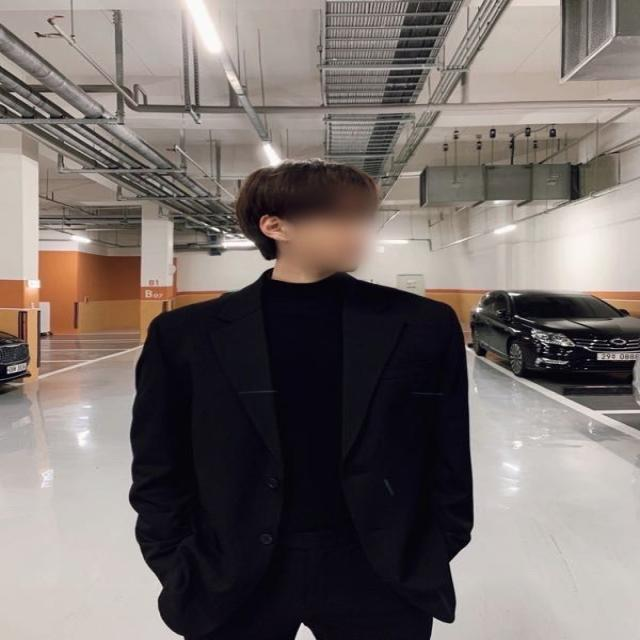blazer: (125, 268, 477, 640)
